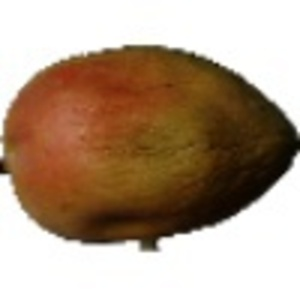mamão: (5, 44, 298, 243)
